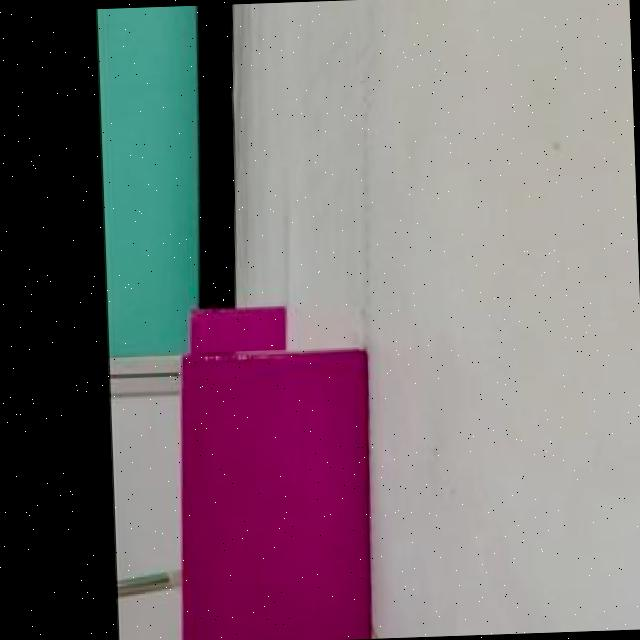xparking: (183, 350, 374, 640), (192, 308, 278, 349)
